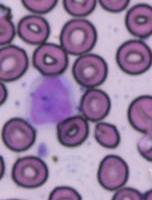L: (25, 74, 76, 128)
